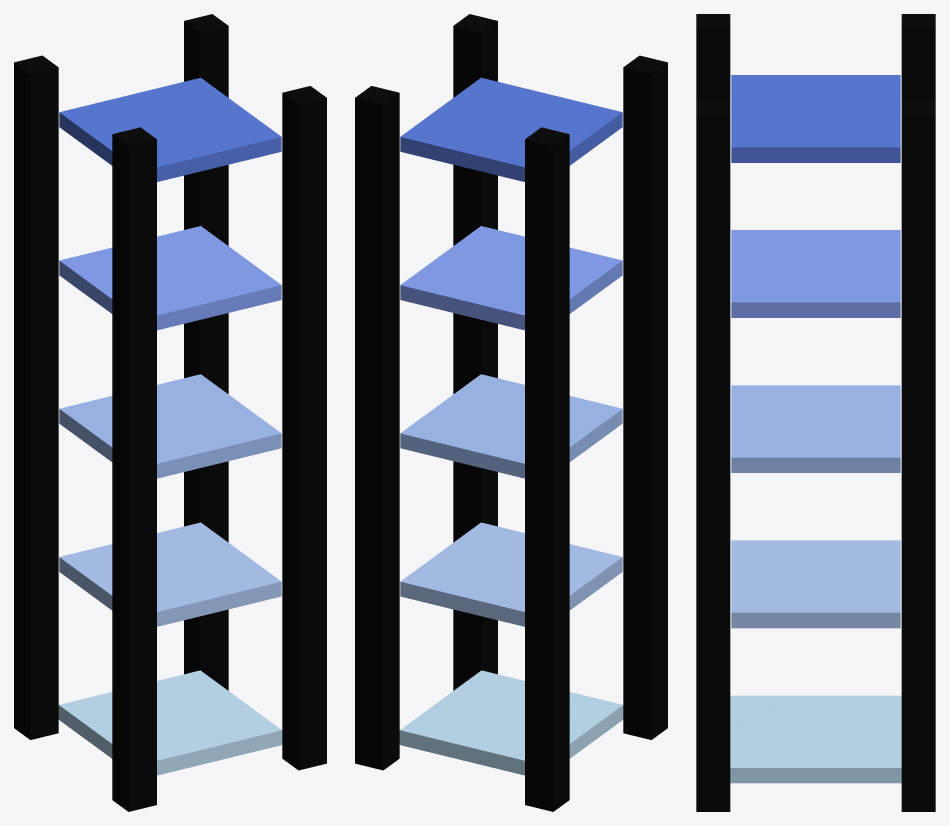
File: Shelf.fbx
3 views of the same model, side by side, from view 1: azimuth 30°, elevation 25°; view 2: azimuth 150°, elevation 25°; view 3: azimuth 270°, elevation 25° (orthographic). The views are drawn at different scales.
Parts seen in each view (by area): view 1: Cube, Plane.004, Plane, Plane.001, Plane.002, Plane.003; view 2: Cube, Plane.004, Plane, Plane.001, Plane.002, Plane.003; view 3: Cube, Plane, Plane.001, Plane.002, Plane.003, Plane.004.
Part boxes in pixels (<box>): Cube: <box>14,14,326,811</box>; Plane.004: <box>59,77,281,181</box>; Plane: <box>58,670,282,775</box>; Plane.001: <box>59,522,281,626</box>; Plane.002: <box>59,374,281,478</box>; Plane.003: <box>59,226,281,330</box>; Cube: <box>355,14,667,811</box>; Plane.004: <box>400,77,622,181</box>; Plane: <box>399,670,623,775</box>; Plane.001: <box>400,522,622,626</box>; Plane.002: <box>400,374,622,478</box>; Plane.003: <box>400,226,622,330</box>; Cube: <box>696,14,935,811</box>; Plane: <box>730,695,901,783</box>; Plane.001: <box>731,540,900,628</box>; Plane.002: <box>731,385,900,472</box>; Plane.003: <box>731,230,900,317</box>; Plane.004: <box>731,75,900,162</box>.
Size of the model in its own units: 140 by 449 by 140.
